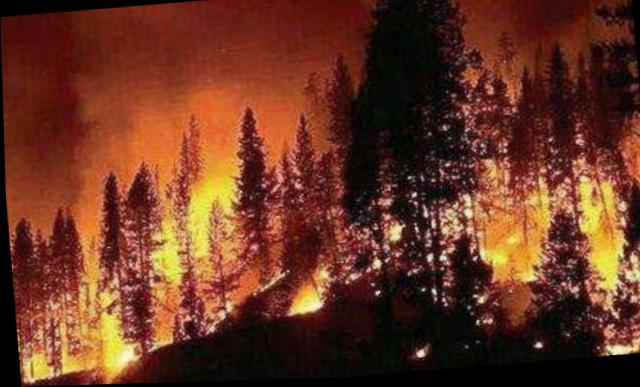fire: (2, 75, 639, 382)
